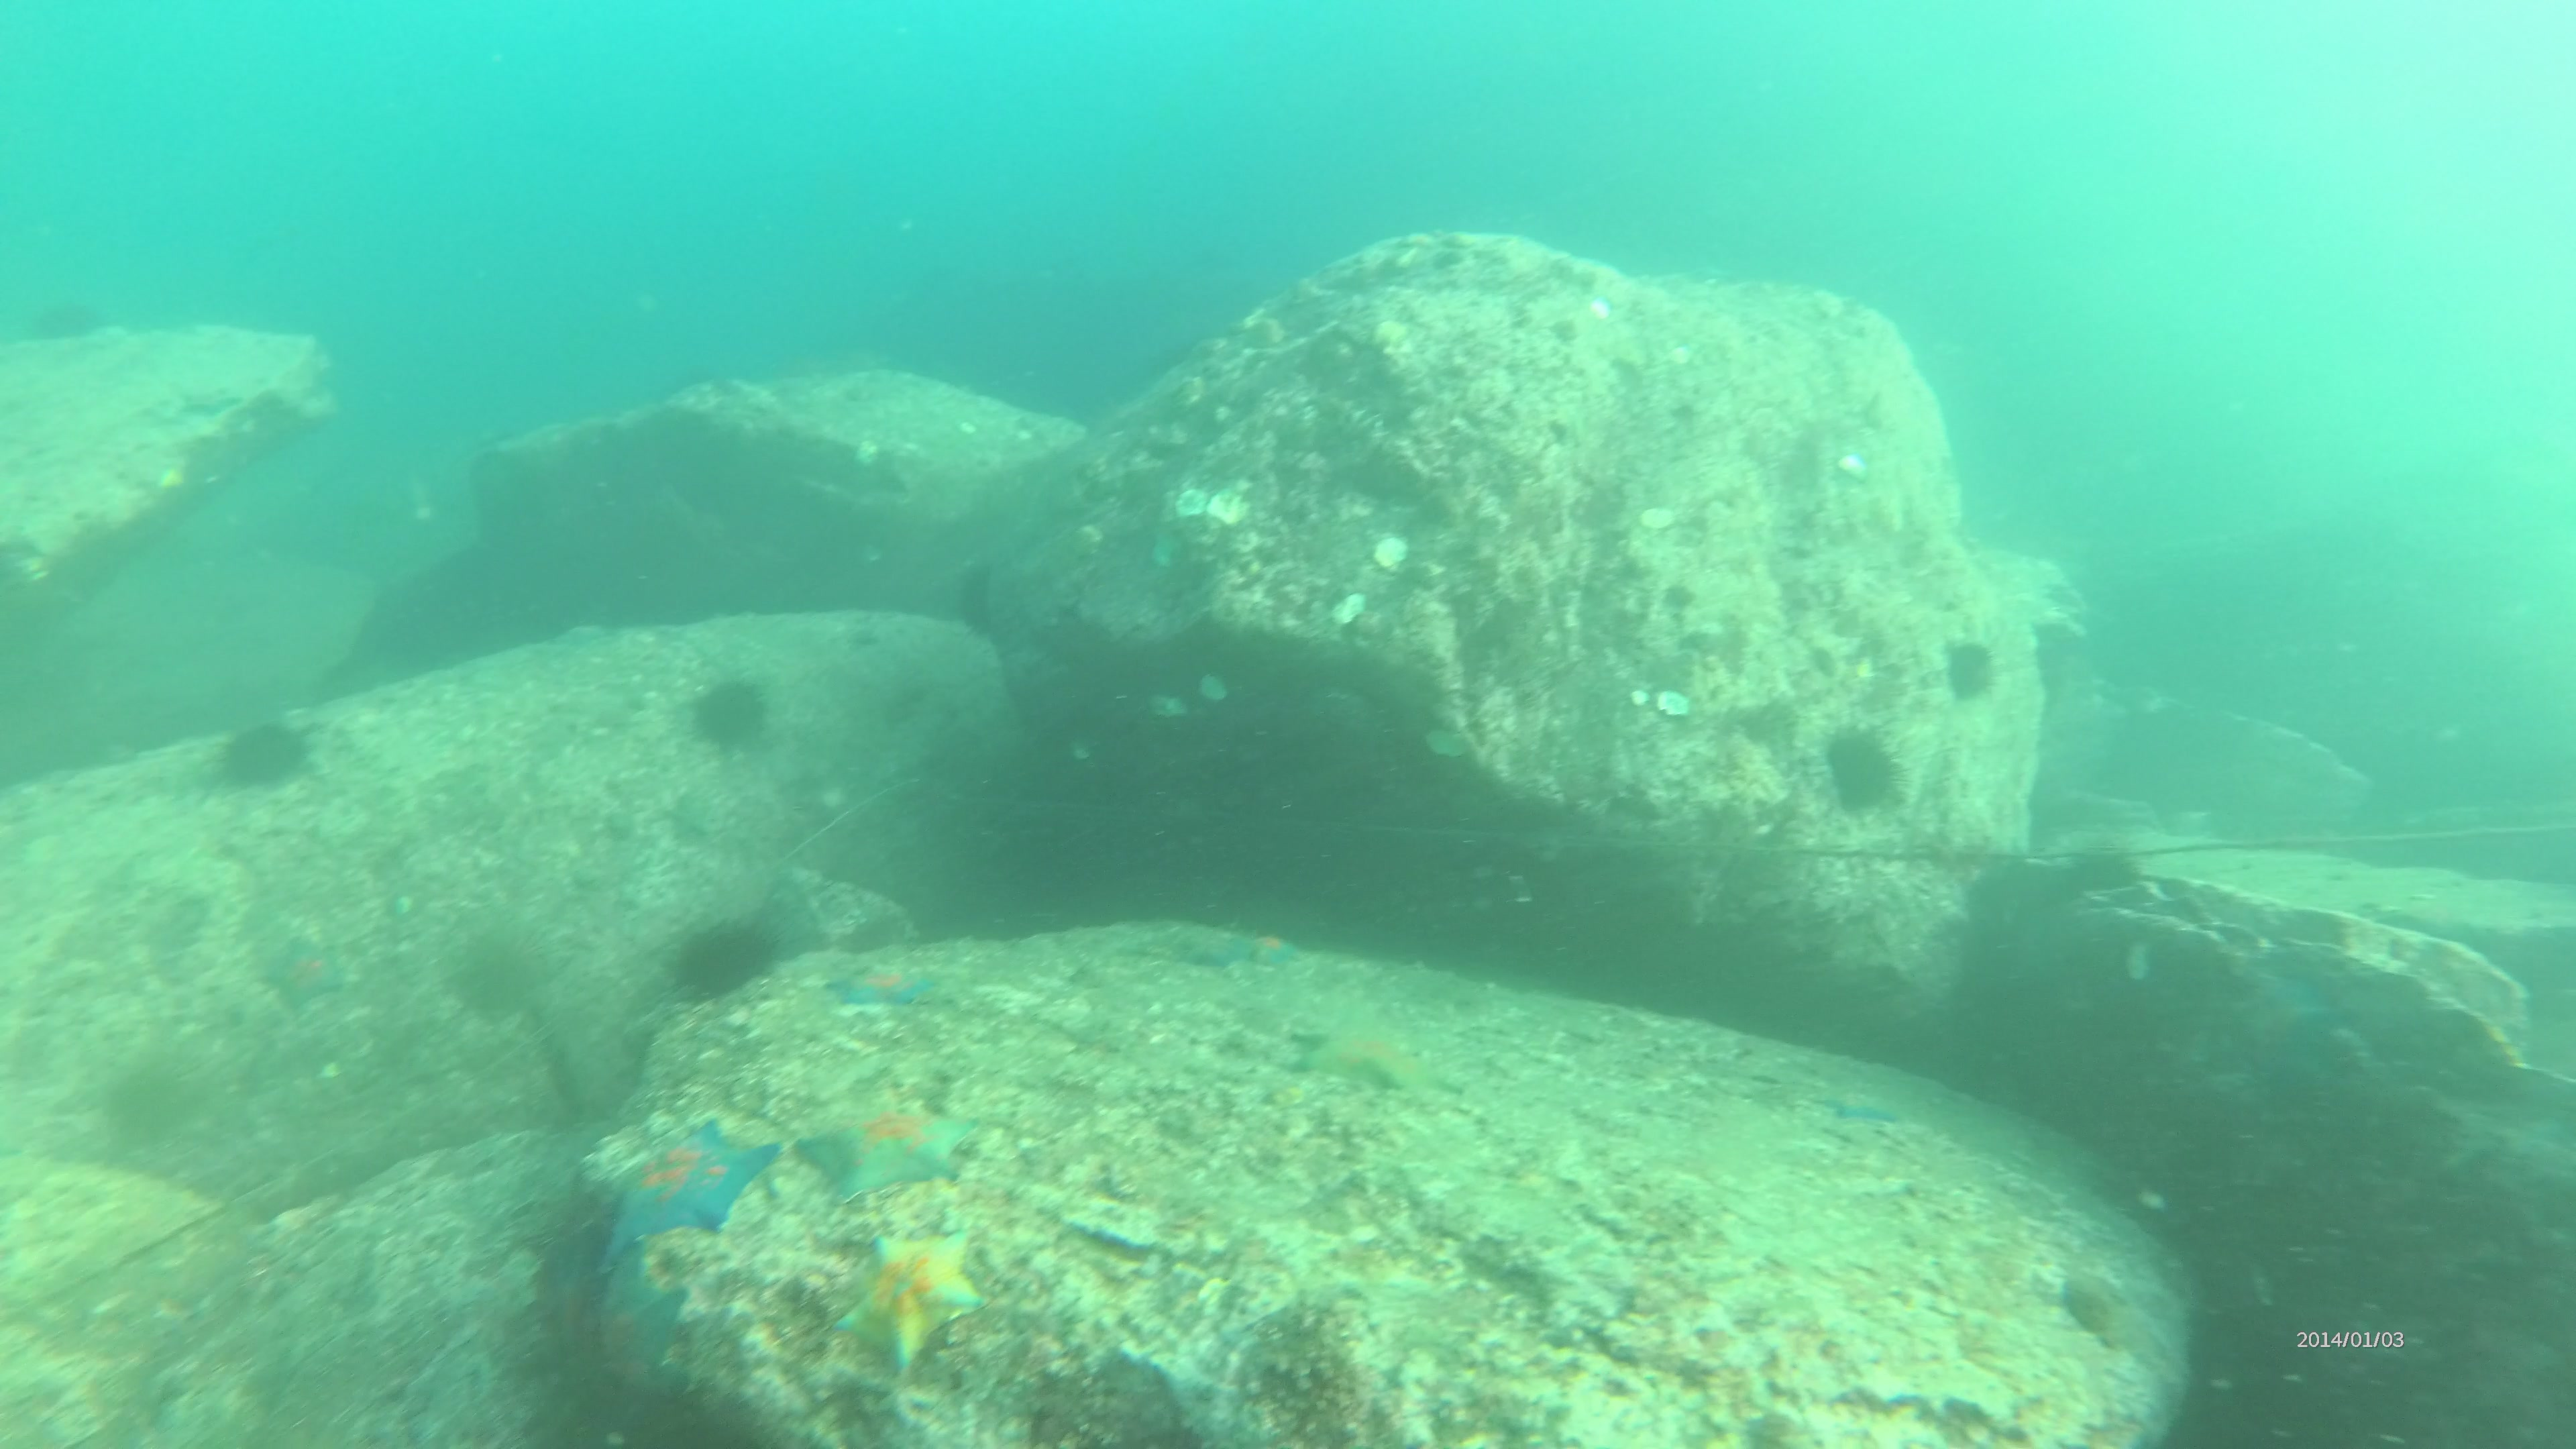echinus: (1821, 722, 1913, 819), (672, 918, 782, 1000), (218, 715, 308, 791), (686, 678, 768, 755), (2063, 837, 2144, 901), (1943, 635, 2003, 702)
starfish: (598, 1125, 789, 1267), (837, 1231, 994, 1368), (816, 1097, 980, 1212), (833, 952, 957, 1030)
